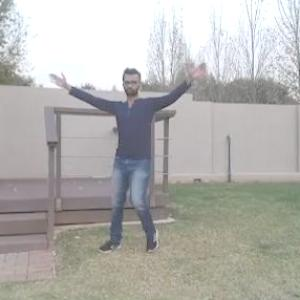takeoff: (48, 63, 207, 254)
